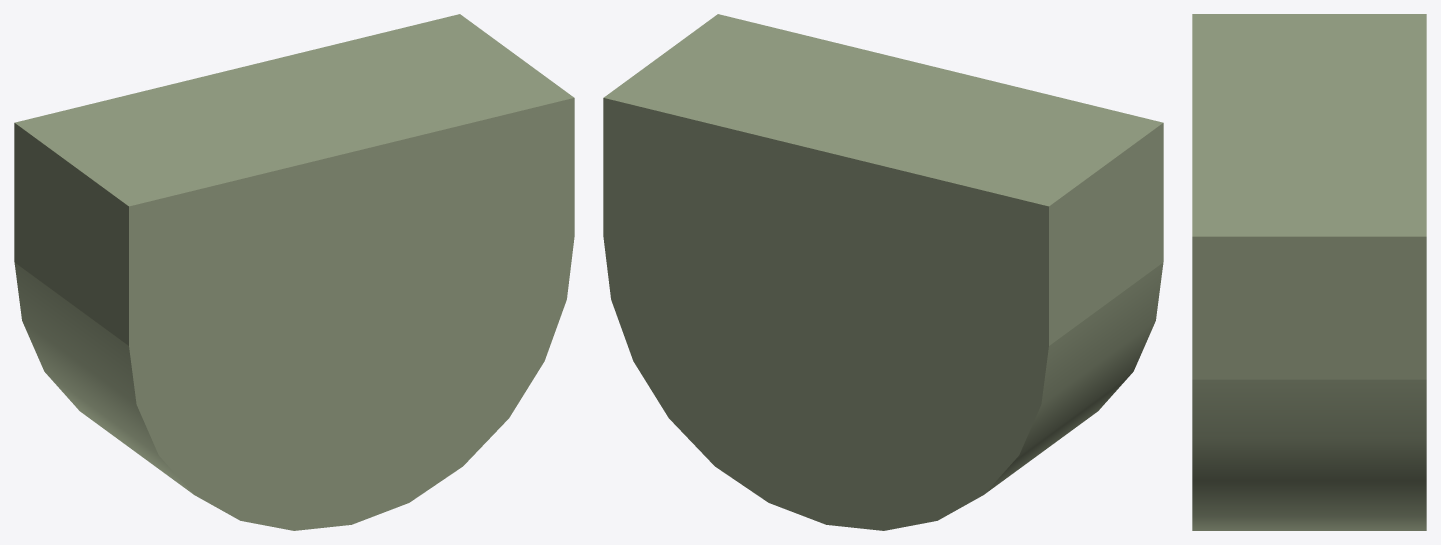
The model's file is original-149.obj.
3 views of the same model, side by side, from view 1: azimuth 30°, elevation 25°; view 2: azimuth 150°, elevation 25°; view 3: azimuth 270°, elevation 25° (orthographic). The views are drawn at different scales.
Parts seen in each view (by area): view 1: Group59/mesh140/mesh140-geometry#mesh140-geometry; view 2: Group59/mesh140/mesh140-geometry#mesh140-geometry; view 3: Group59/mesh140/mesh140-geometry#mesh140-geometry.
Boxes of the visible parts, x1,y1,x2,y2 form: Group59/mesh140/mesh140-geometry#mesh140-geometry: (14,14,574,530); Group59/mesh140/mesh140-geometry#mesh140-geometry: (603,14,1163,530); Group59/mesh140/mesh140-geometry#mesh140-geometry: (1192,14,1426,530).
Bounding box in the file's own units: 0.0174 × 0.0139 × 0.00776.
